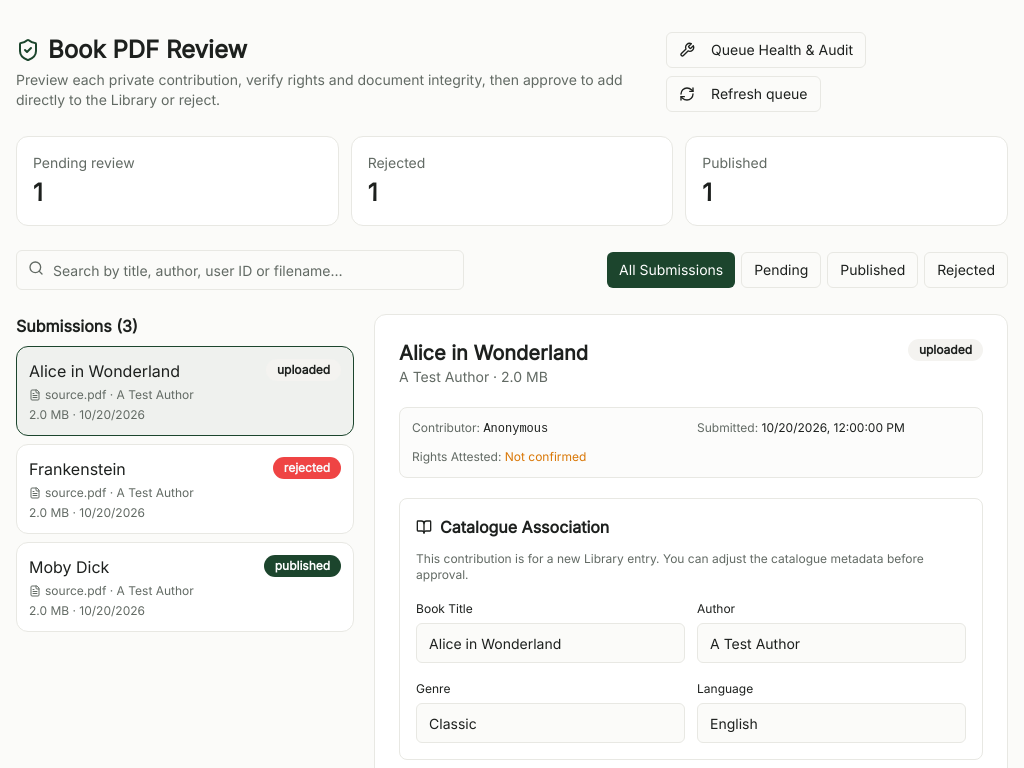
Test: AdminBookPdfReviews › filters submissions by search query and status
Expected: the text "Alice in Wonderland" is shown, [29,359,180,383]
Expected: the text "Frankenstein" is shown, [29,457,126,481]
# Search filter
In the field with placeholder "Search by title, author, user ID or filename…": (240, 270) [16,250,464,290], type "Frank"
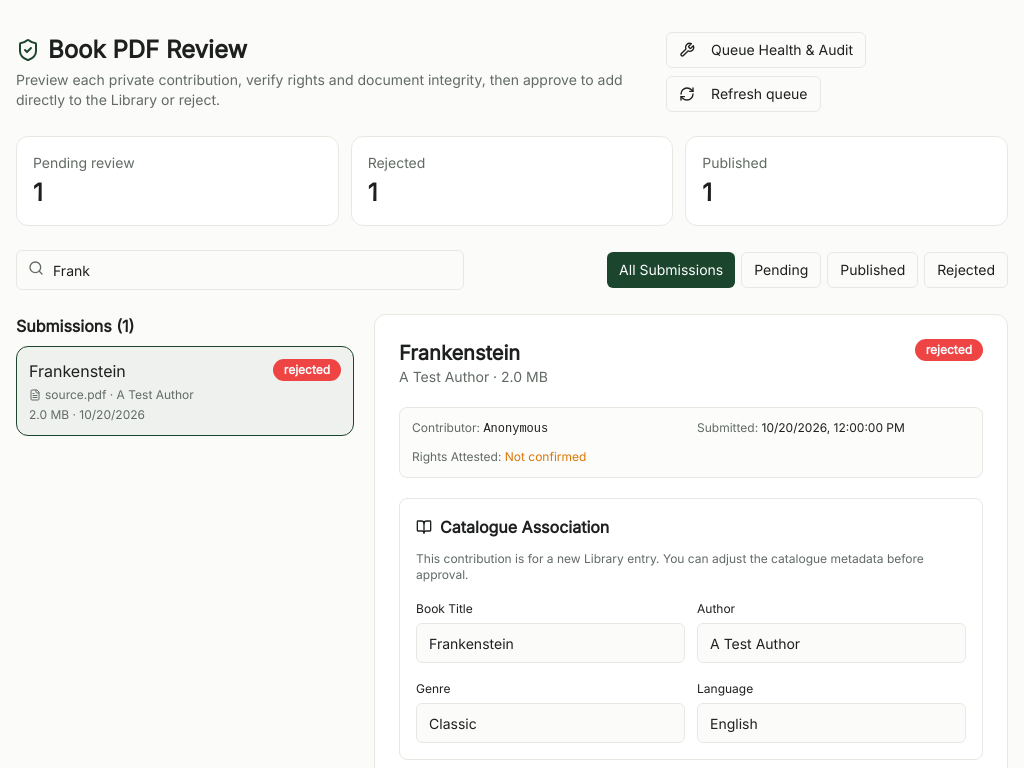
Expected: the text "Frankenstein" is shown, [29,359,126,383]
Expected: the button "Alice in Wonderland" is gone
# Clear search and test status filter button
Clear the field with placeholder "Search by title, author, user ID or filename…": (240, 270) [16,250,464,290]
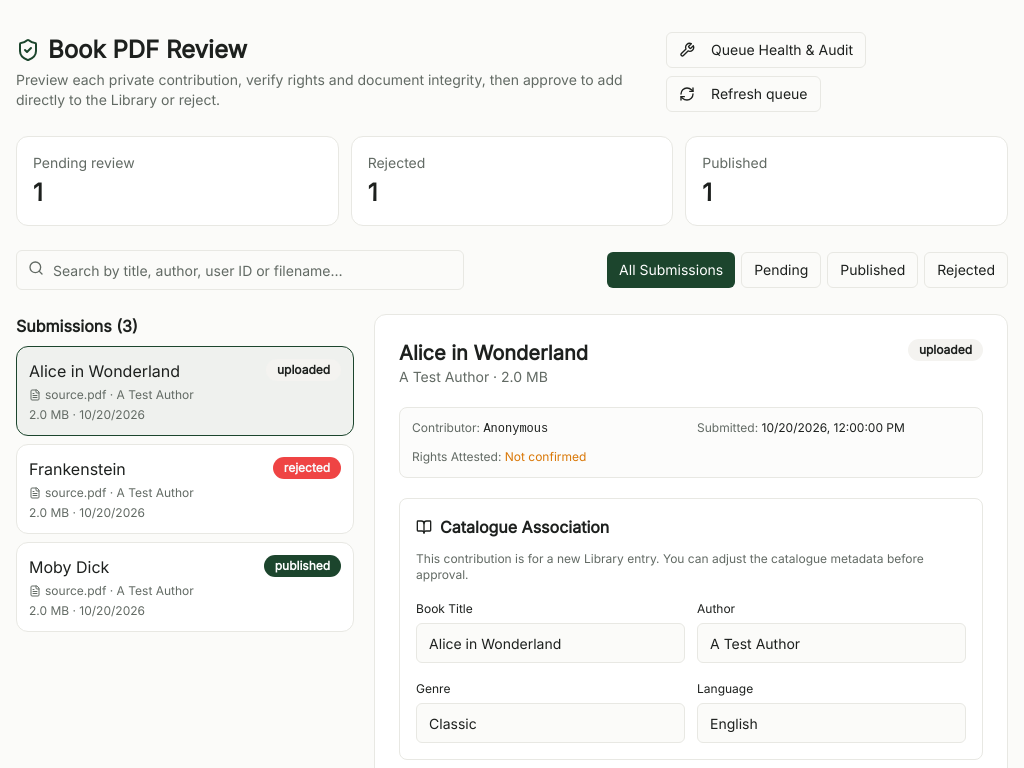
Click the button "Rejected": (966, 270) [924,252,1008,288]
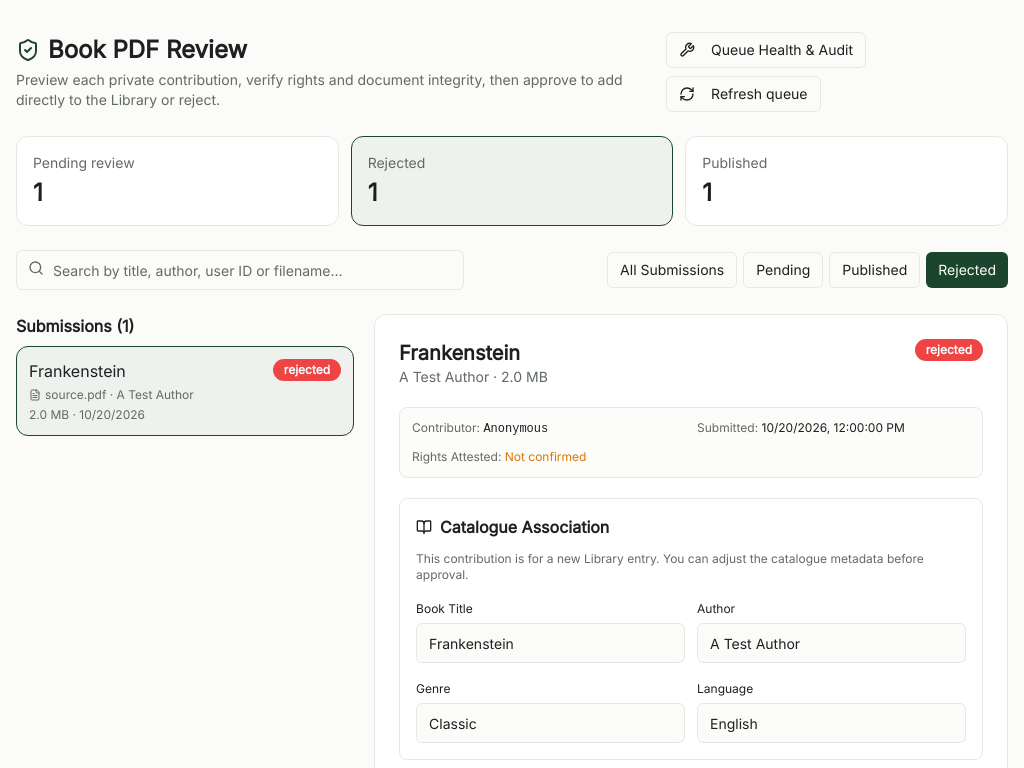
Expected: the text "Frankenstein" is shown, [29,359,126,383]
Expected: the button "Alice in Wonderland" is gone
